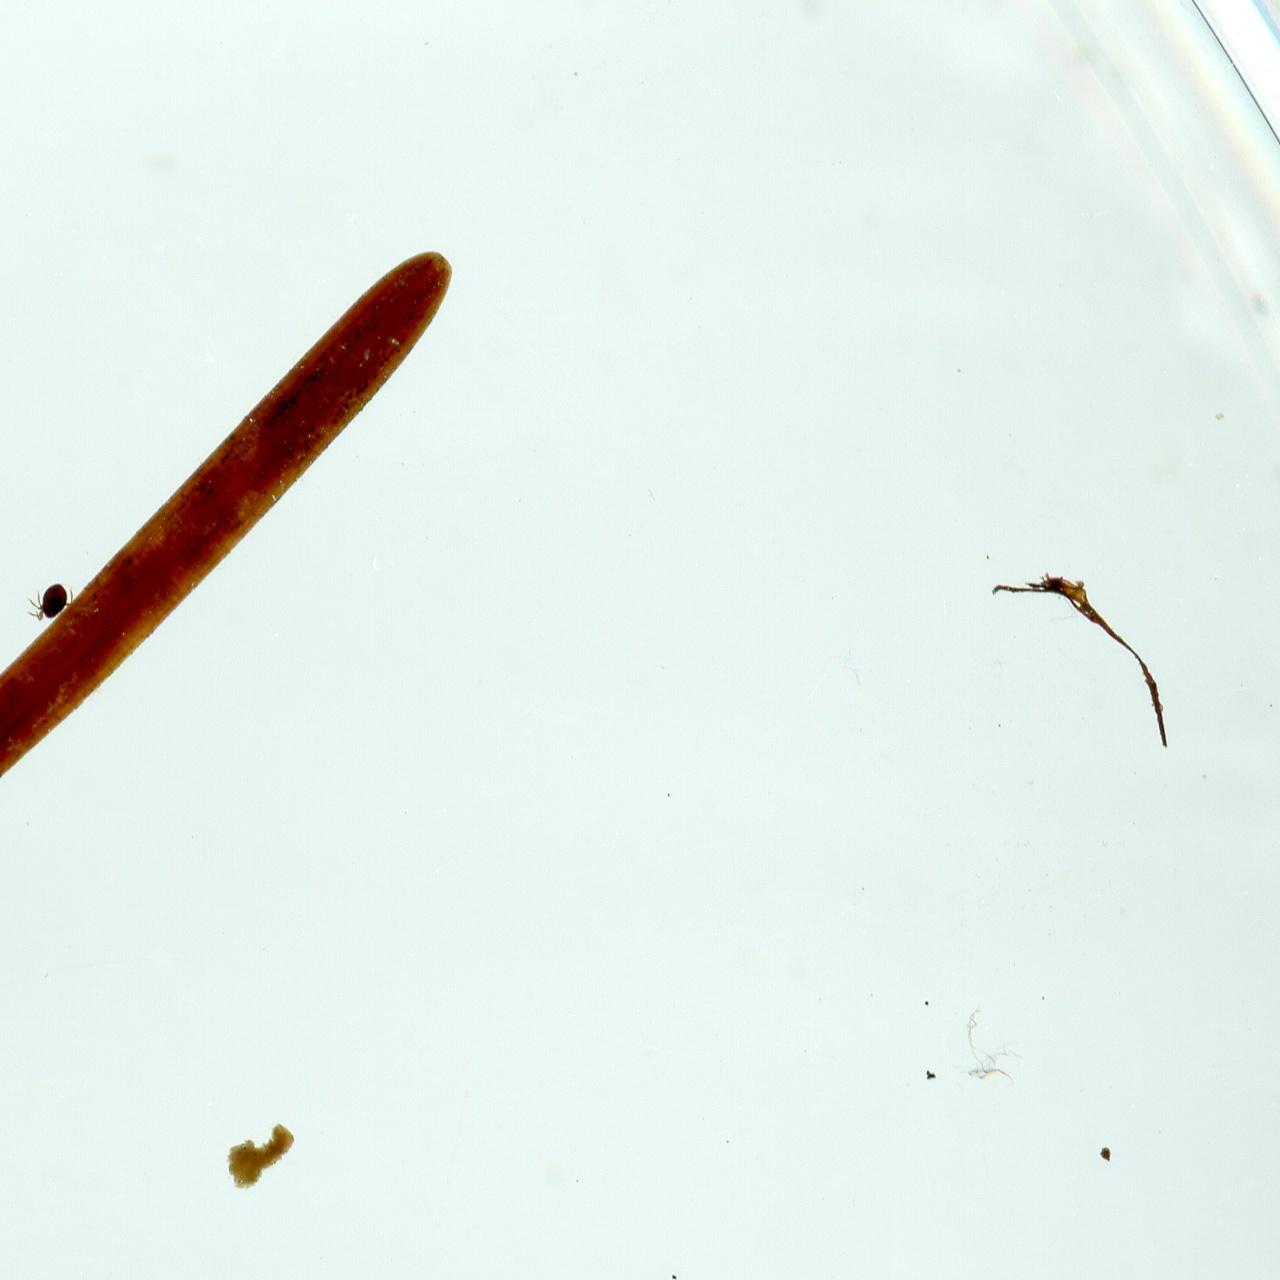arthropod: (26, 579, 74, 628)
